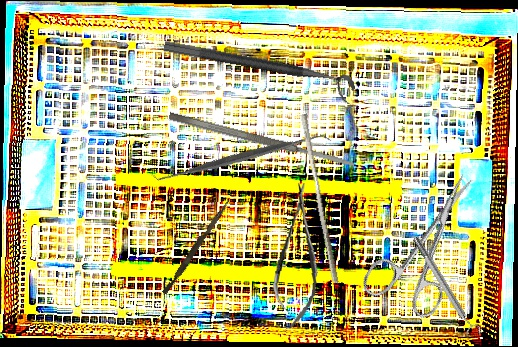Fixation Ring: (160, 39, 357, 105), (408, 232, 484, 342)
Iris Scissors: (358, 158, 503, 328)
Micro Scissor: (269, 181, 327, 329)
Pusher: (294, 113, 346, 284), (162, 197, 230, 297)
Spatula Surgical: (149, 65, 334, 250), (167, 110, 356, 171)
